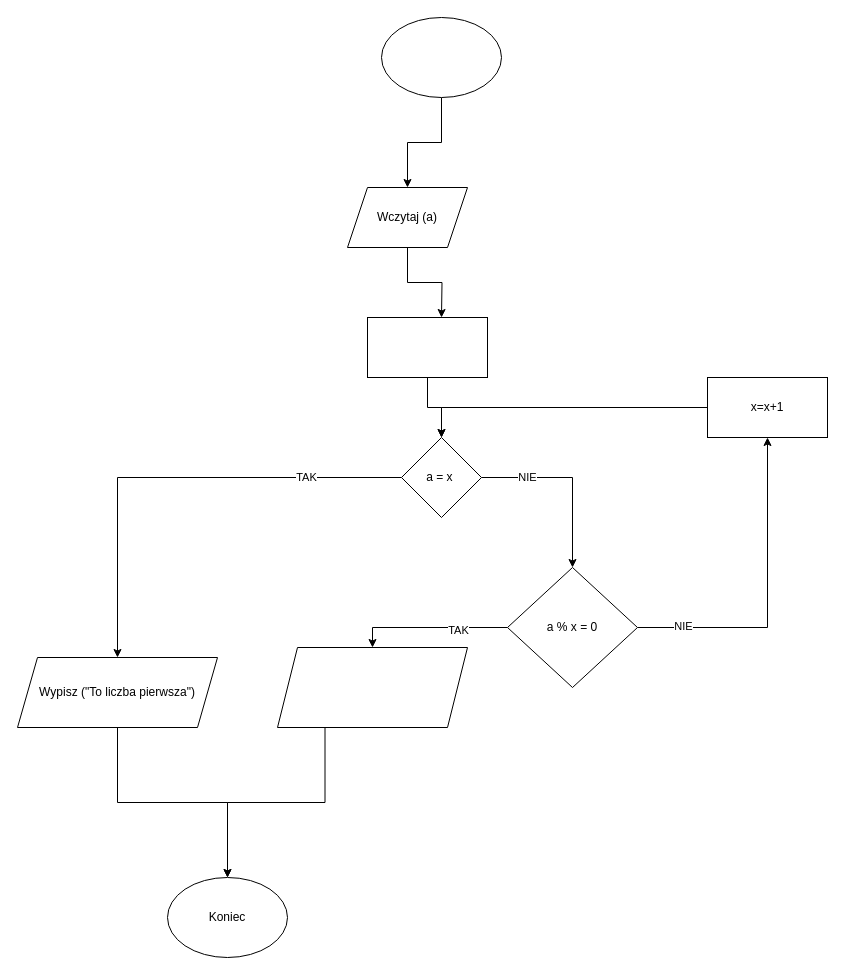
Some shapes in this 845 by 975 pixel diagram are drawn without their labels. The shapes that lost their labels are listed below. From the top down, each one's centre as x and y in pixels, then its label:
point 441,57: START
point 427,347: x = 2
point 372,687: Wypisz ("To nie jest liczba pierwsza")
